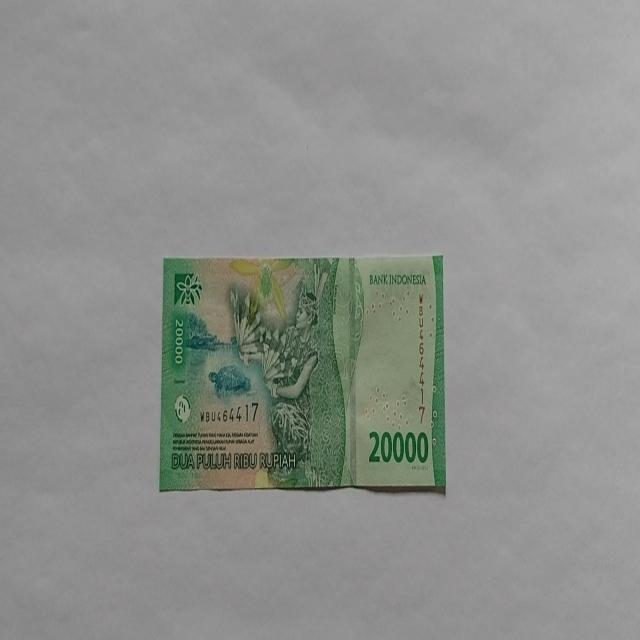dua puluh ribu rupiah: (159, 252, 447, 494)
